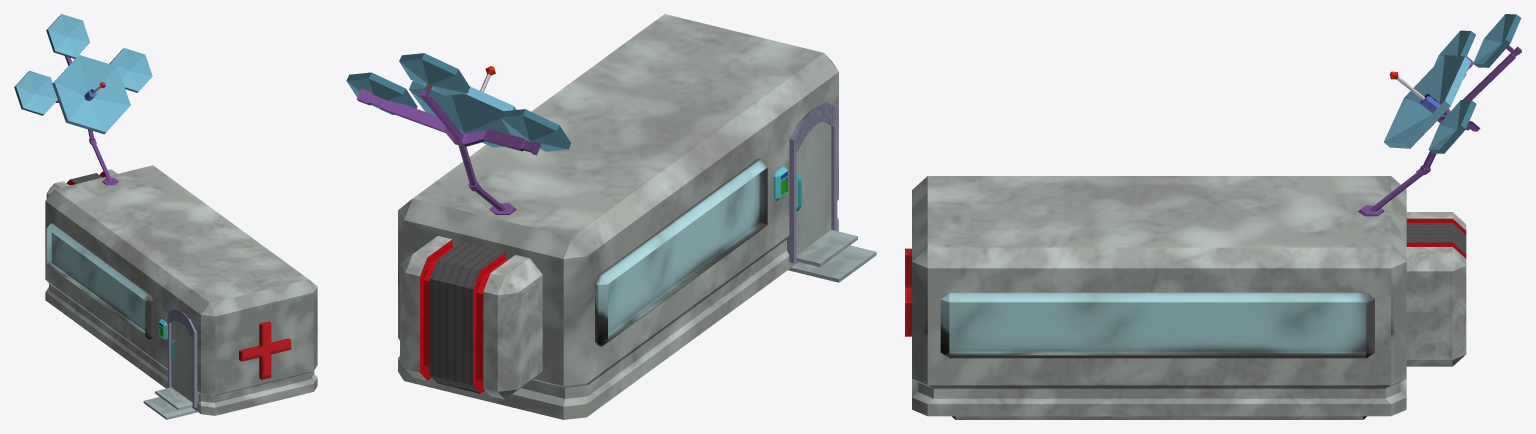
The model's file is ClinicaHumana.fbx.
The picture shows the model from 3 angles, left to right: view 1: azimuth 30°, elevation 25°; view 2: azimuth 150°, elevation 25°; view 3: azimuth 270°, elevation 25°; orthographic projection. The views are drawn at different scales.
Visible parts, largest first — view 1: LOD_0; view 2: LOD_0; view 3: LOD_0.
Part boxes in pixels (x1,y1,x2,y2): LOD_0: (14, 14, 317, 419); LOD_0: (346, 14, 876, 419); LOD_0: (905, 14, 1521, 419).
Size of what is drawn, in the model's own units: 419 by 661 by 987.
